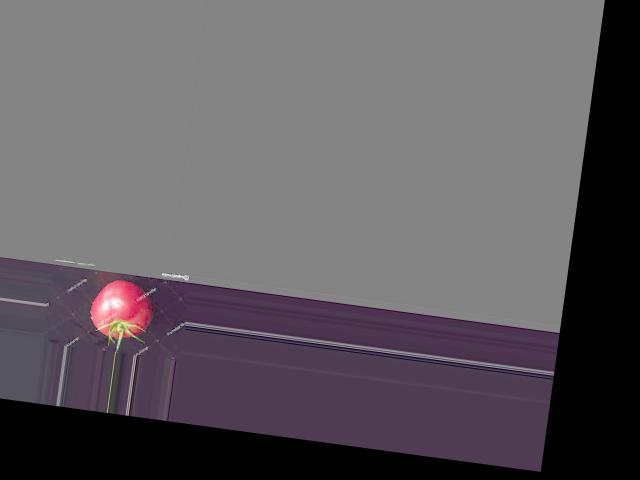tomato: (87, 276, 155, 342)
